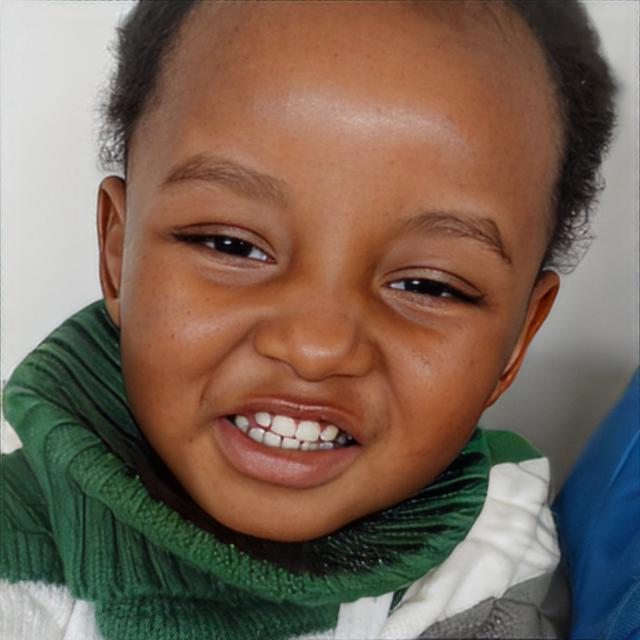happy: (124, 0, 568, 549)
